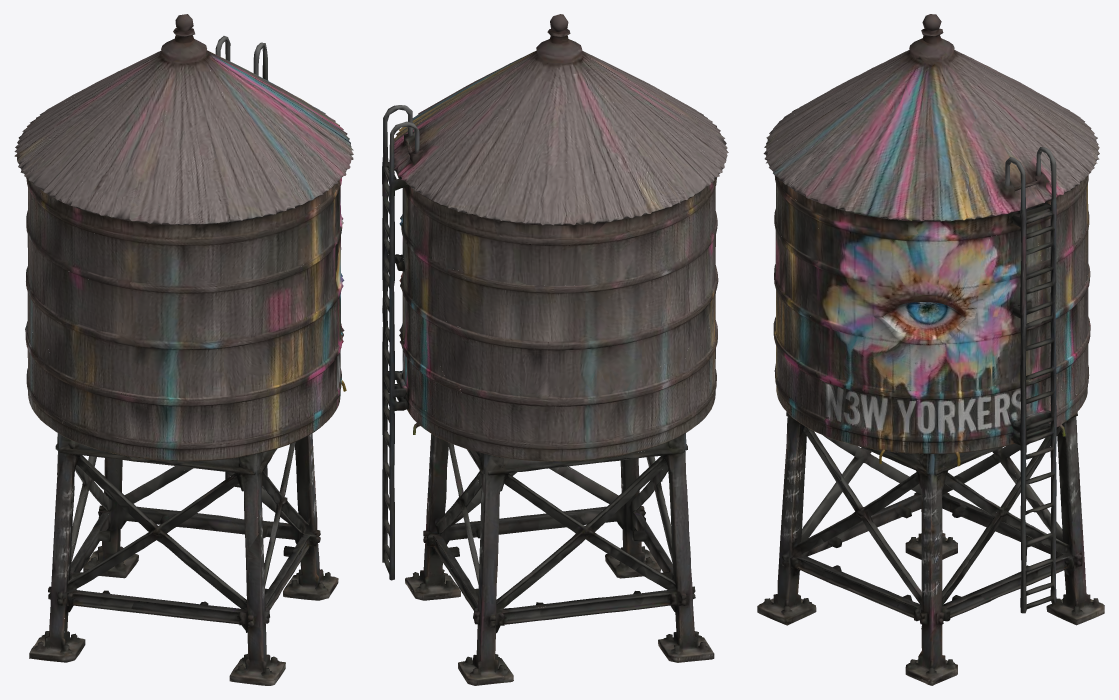
Rendered from tower.glb.
3 views of the same model, side by side, from view 1: azimuth 30°, elevation 25°; view 2: azimuth 150°, elevation 25°; view 3: azimuth 270°, elevation 25° (orthographic).
Parts seen in each view (by area): view 1: tripo_node_6ada89a9-3182-4733-ac78-08af0c40e6a4; view 2: tripo_node_6ada89a9-3182-4733-ac78-08af0c40e6a4; view 3: tripo_node_6ada89a9-3182-4733-ac78-08af0c40e6a4.
Part boxes in pixels (bbox=[...]): tripo_node_6ada89a9-3182-4733-ac78-08af0c40e6a4: bbox=[14, 14, 353, 685]; tripo_node_6ada89a9-3182-4733-ac78-08af0c40e6a4: bbox=[382, 14, 728, 685]; tripo_node_6ada89a9-3182-4733-ac78-08af0c40e6a4: bbox=[757, 14, 1104, 685].
Size of the model in its own units: 0.5326 by 1 by 0.5262.
Materials: 1 (1 with a texture image).
